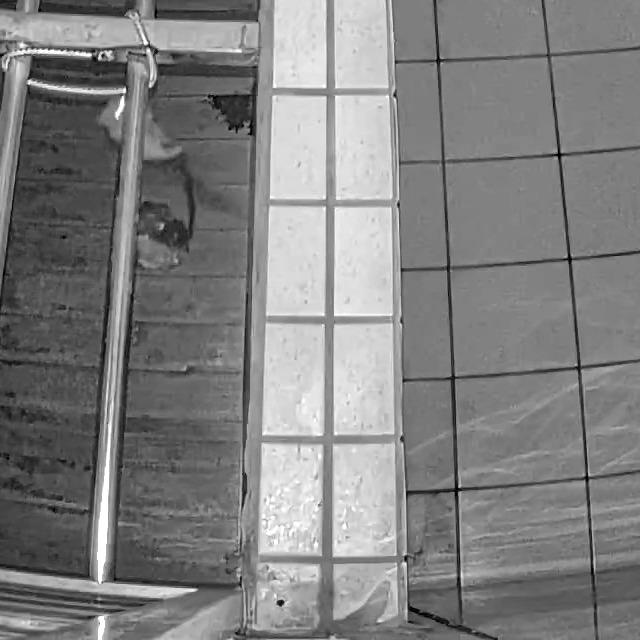rat: (95, 92, 252, 226)
